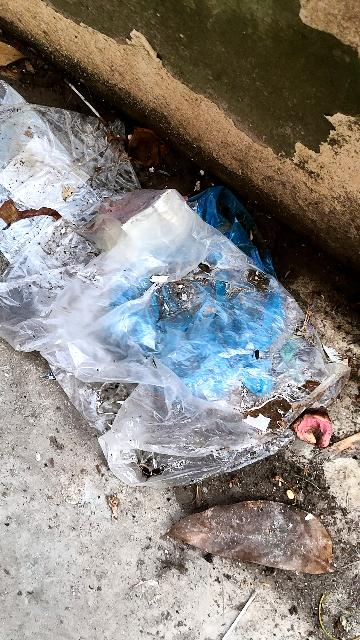polythene: (23, 193, 333, 485)
